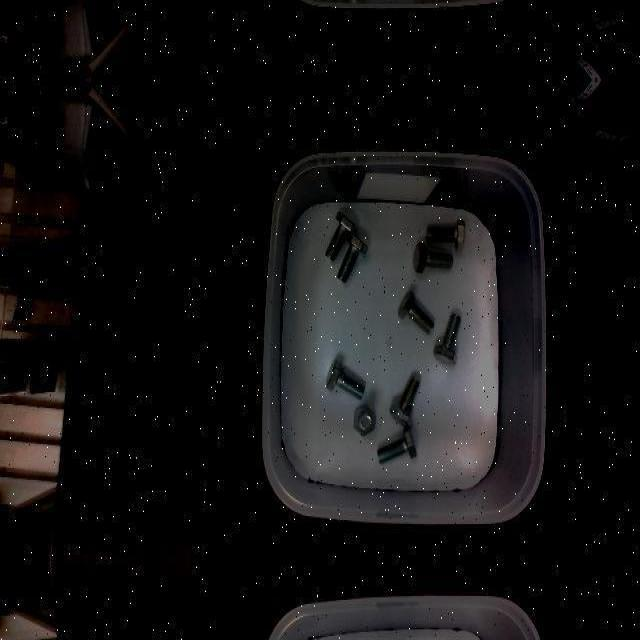screw: (398, 290, 435, 334), (389, 376, 420, 428), (336, 232, 368, 282), (324, 211, 356, 261), (326, 359, 365, 399), (433, 313, 461, 365), (376, 428, 416, 464), (426, 219, 465, 251), (413, 242, 453, 272), (353, 404, 375, 436)
